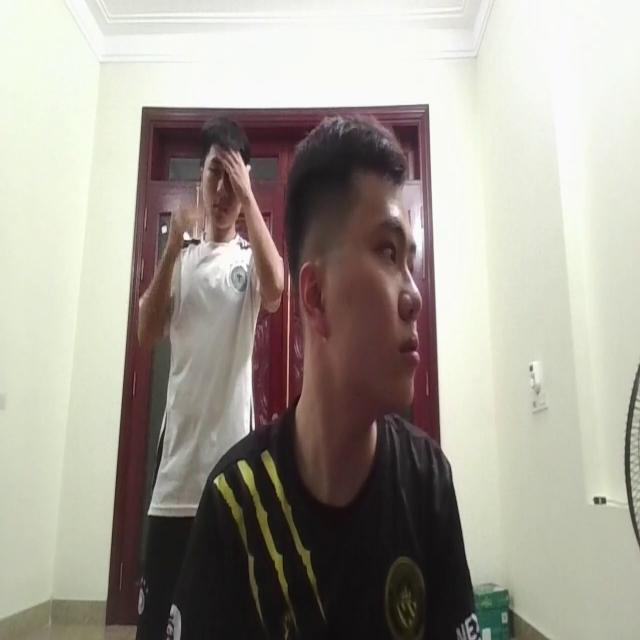extra_person: (116, 108, 280, 554)
student: (202, 126, 485, 640)
